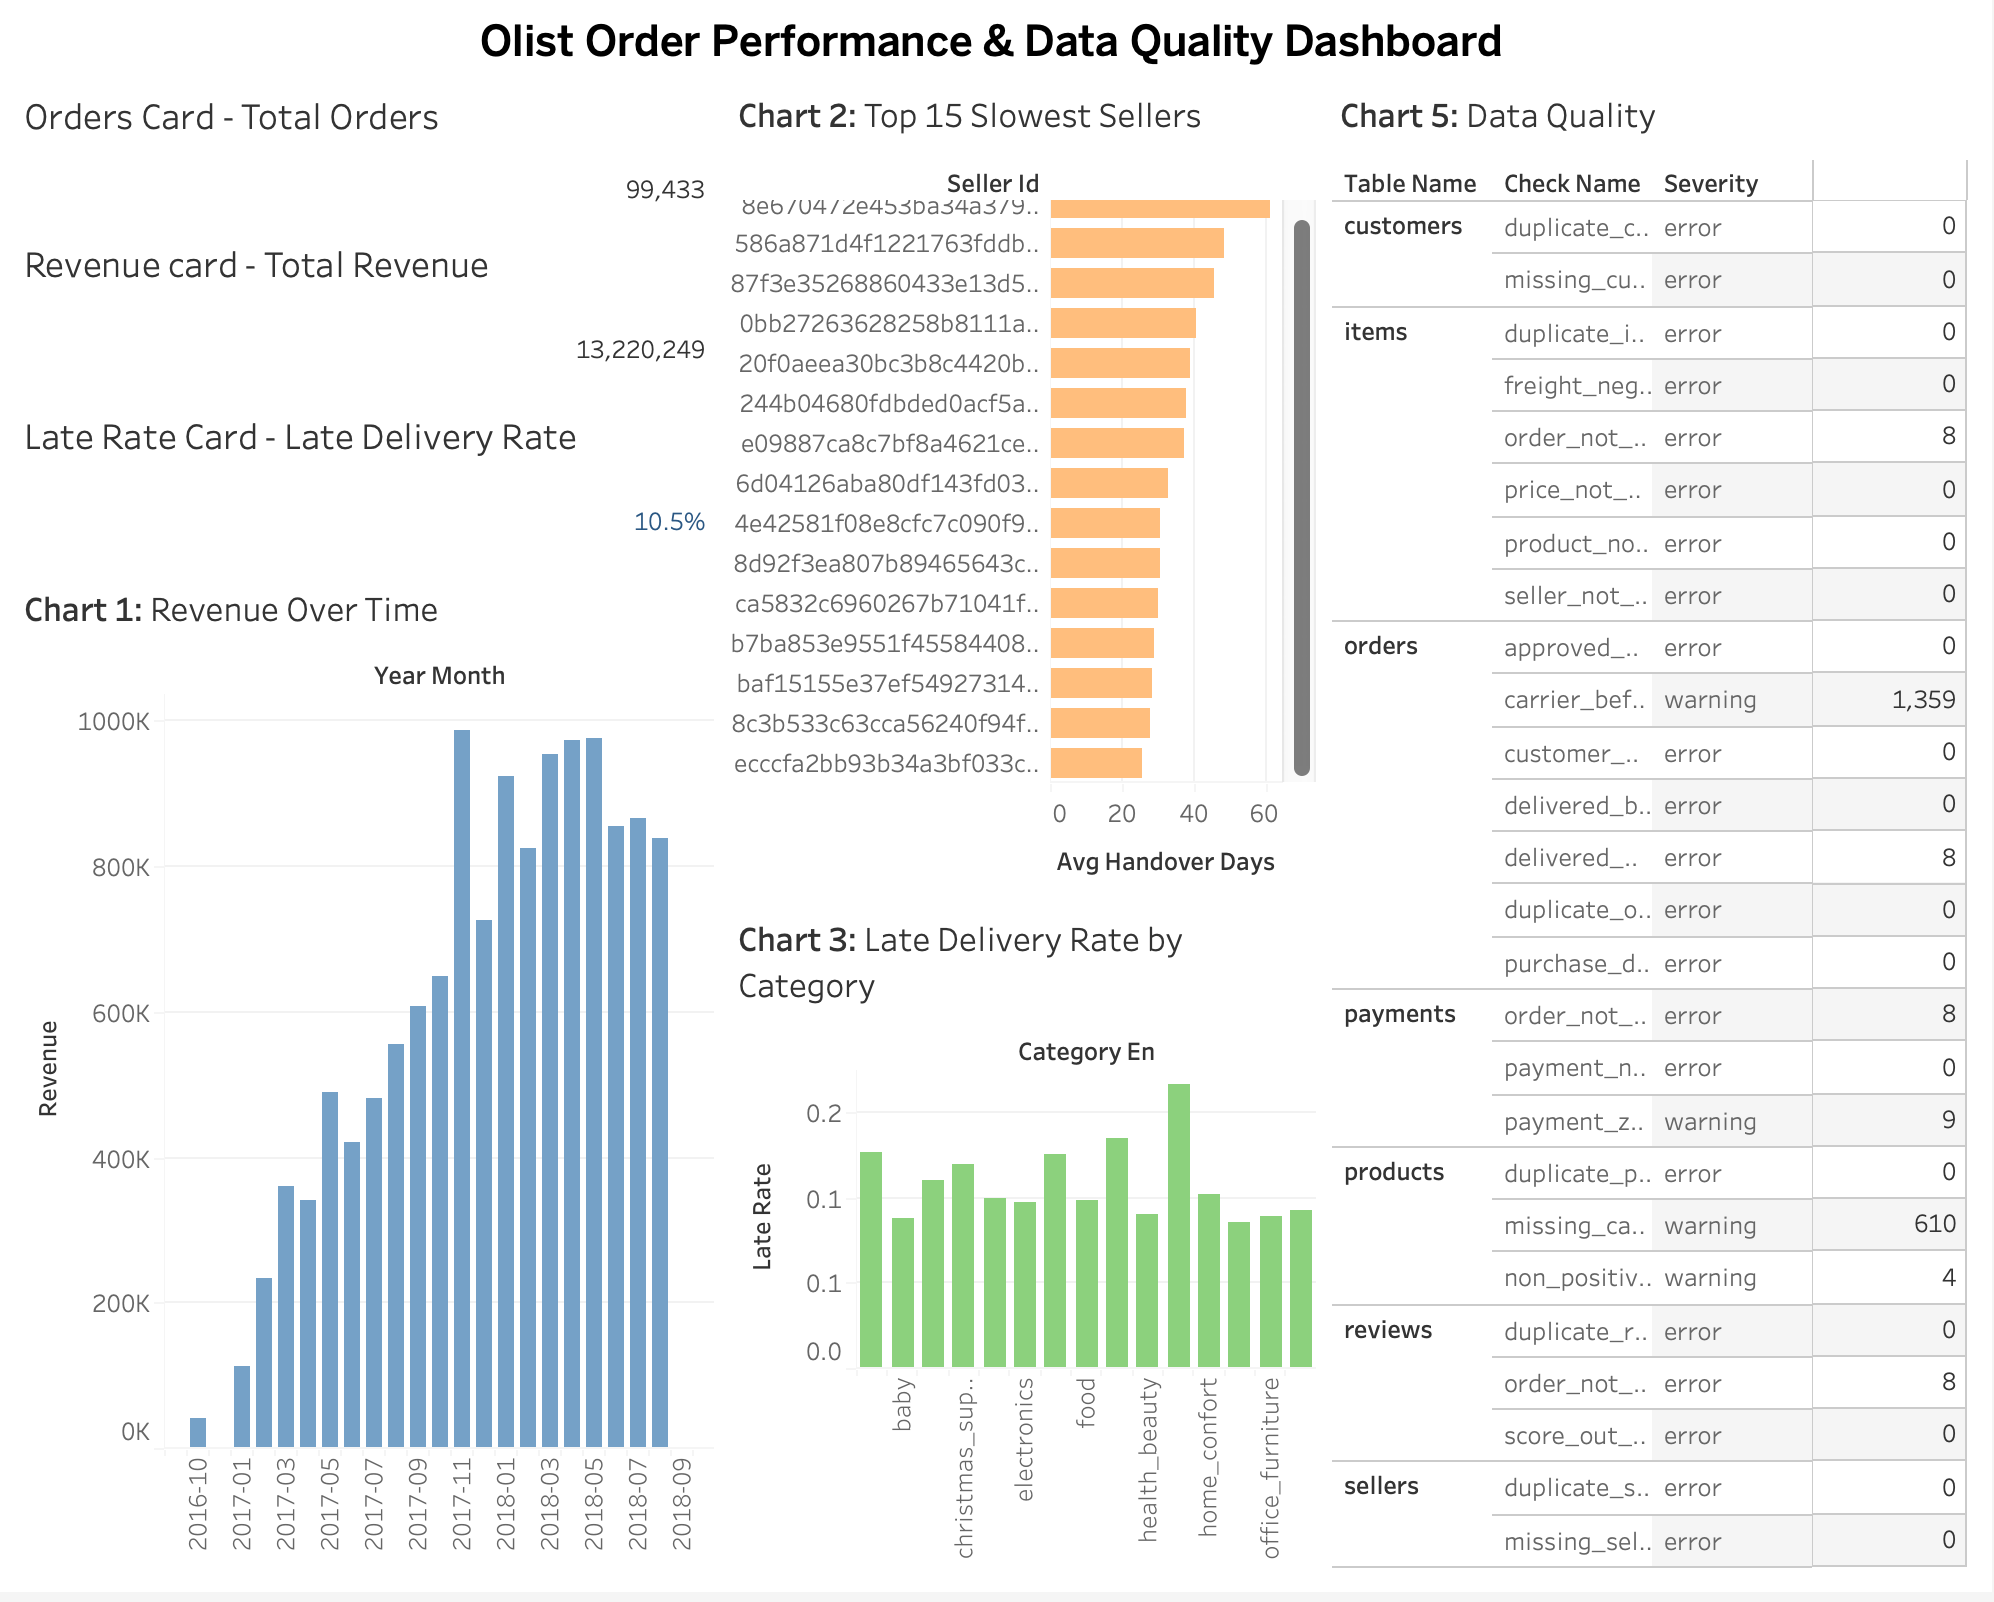

This screenshot's page, from the dashboard's own definition file:
{"tool":"tableau","page":{"name":"Dashboard 1","canvas":[1000,800],"ordinal":0},"visuals":[{"type":"title","box":[8,8,984,34]},{"type":"worksheet","title":"Sheet 4","mark":"Text","box":[8,42,357,73.6]},{"type":"worksheet","title":"Sheet 2","mark":"Automatic","rows":["seller_id"],"cols":["avg_handover_days"],"box":[365,42,301,412.3]},{"type":"worksheet","title":"Sheet 7","mark":"Text","rows":["table_name","check_name","severity"],"box":[666,42,326,749.8]},{"type":"worksheet","title":"Sheet 5","mark":"Text","box":[8,115.6,357,86.6]},{"type":"worksheet","title":"Sheet 6","mark":"Text","box":[8,202.2,357,86.6]},{"type":"worksheet","title":"Sheet 1","mark":"Automatic","rows":["revenue"],"cols":["year_month"],"box":[8,288.8,357,503.2]},{"type":"worksheet","title":"Sheet 3","mark":"Automatic","rows":["late_rate"],"cols":["category_en"],"box":[365,454.3,301,337.7]}]}

Visuals, with their boxes in screenshot pixels (x1, y1, x2, y2), scaled from the page's 1000x800 canvas onto the 1994x1602 screenshot:
title: l=16, t=16, r=1978, b=84
"Sheet 4" worksheet (Text marks): l=16, t=84, r=728, b=231
"Sheet 2" worksheet: l=728, t=84, r=1328, b=910
"Sheet 7" worksheet (Text marks): l=1328, t=84, r=1978, b=1586
"Sheet 5" worksheet (Text marks): l=16, t=231, r=728, b=405
"Sheet 6" worksheet (Text marks): l=16, t=405, r=728, b=578
"Sheet 1" worksheet: l=16, t=578, r=728, b=1586
"Sheet 3" worksheet: l=728, t=910, r=1328, b=1586
